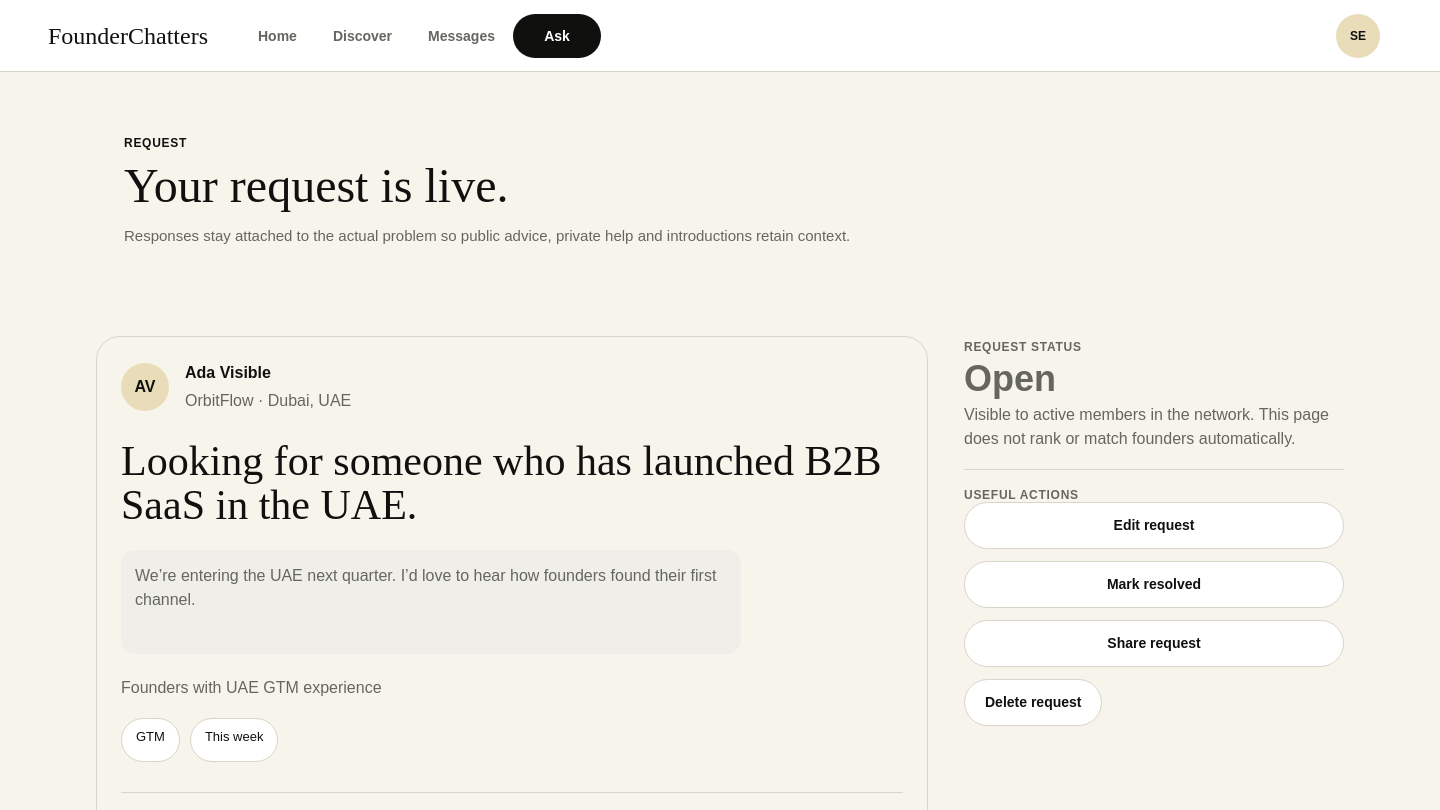
Test: FC-011 request detail › exposes accessible clipboard failure feedback
The width and height of the screenshot is (1440, 810).
expect the heading "Looking for someone who has launched B2B SaaS in the UAE." is shown: met, box [121,439,903,528]
Click the button "Share request": (1154, 644) [964,620,1344,668]
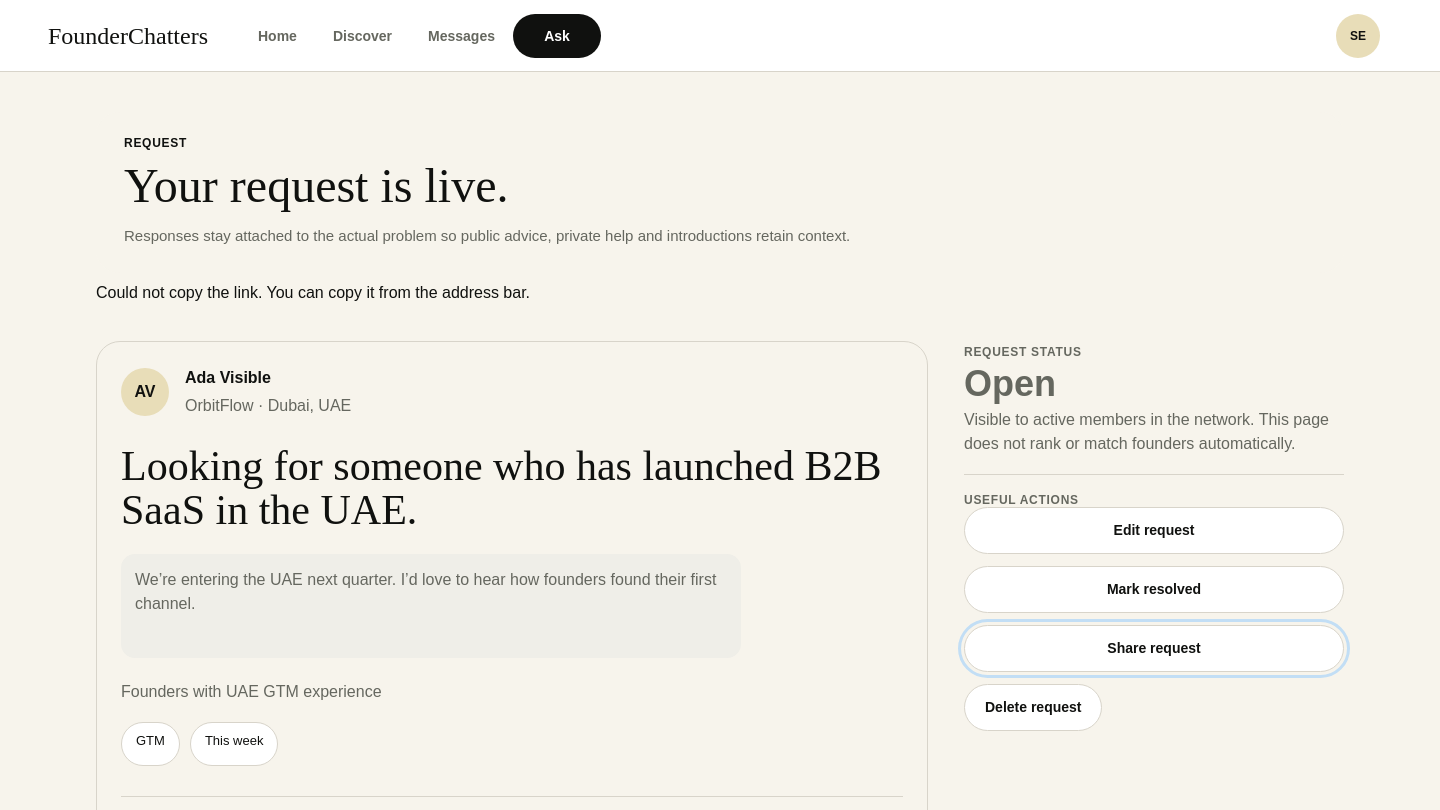
expect the text "Could not copy the link" is shown: met, box [96,284,530,301]
